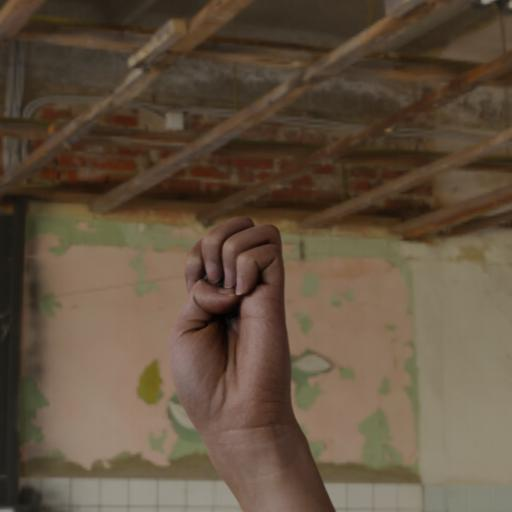E: (164, 210, 305, 472)
